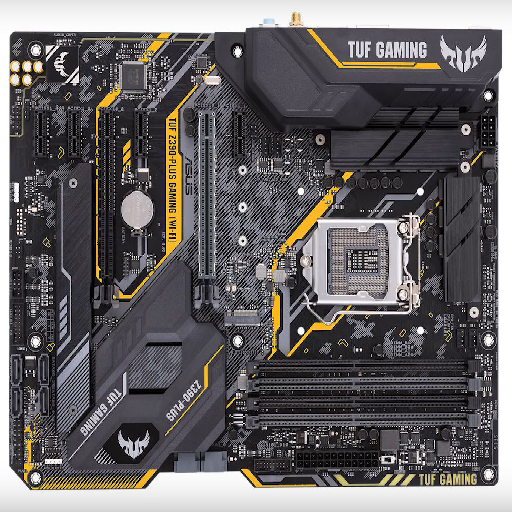CPU: (302, 216, 420, 304)
GPU: (92, 109, 121, 310), (195, 109, 218, 310)
MOTHERBOARD: (9, 27, 502, 490)
SSD: (223, 306, 264, 327), (222, 309, 262, 326)
